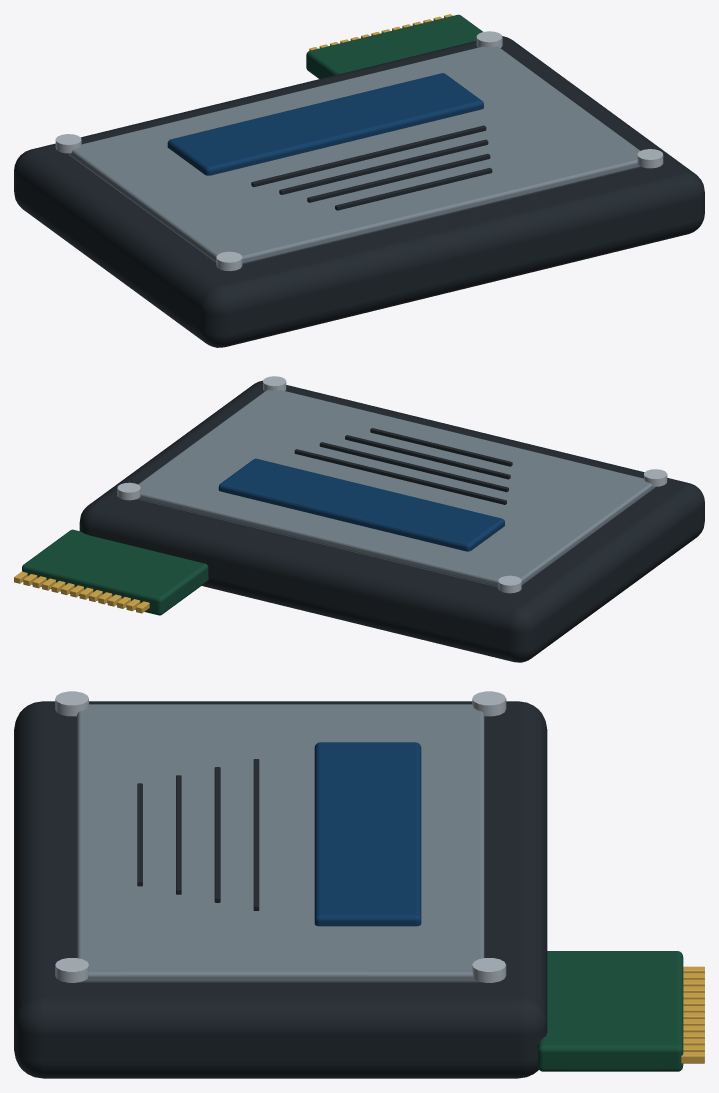
File: solid-state-drive.glb
3 renders of one model, top to bottom at view 1: azimuth 30°, elevation 25°; view 2: azimuth 150°, elevation 25°; view 3: azimuth 270°, elevation 25°, orthographic. The views are drawn at different scales.
Parts seen in each view (by area): view 1: SSD aluminium enclosure, SSD product label, Solid-state drive badge, SATA connector PCB, Premium 2.5-inch solid-state drive; view 2: SSD aluminium enclosure, SSD product label, Solid-state drive badge, SATA connector PCB, Premium 2.5-inch solid-state drive; view 3: SSD product label, SSD aluminium enclosure, Solid-state drive badge, SATA connector PCB, Premium 2.5-inch solid-state drive, Mounting screw (×4).
Boxes of the visible parts, box(x1,y1,x2,y2) form: SSD aluminium enclosure: box(14, 36, 704, 347); SSD product label: box(68, 46, 641, 264); Solid-state drive badge: box(167, 73, 483, 175); SATA connector PCB: box(306, 14, 482, 78); Premium 2.5-inch solid-state drive: box(251, 125, 492, 210); SSD aluminium enclosure: box(79, 380, 704, 662); SSD product label: box(137, 390, 655, 587); Solid-state drive badge: box(218, 458, 504, 551); SATA connector PCB: box(22, 529, 208, 615); Premium 2.5-inch solid-state drive: box(294, 428, 512, 504); SSD product label: box(77, 704, 484, 982); SSD aluminium enclosure: box(14, 701, 547, 1078); Solid-state drive badge: box(314, 742, 421, 926); SATA connector PCB: box(537, 951, 683, 1071); Premium 2.5-inch solid-state drive: box(137, 759, 259, 910); Mounting screw (×4): box(55, 691, 506, 982).
Size of the model in its own units: 1.56 by 0.2295 by 1.43.
